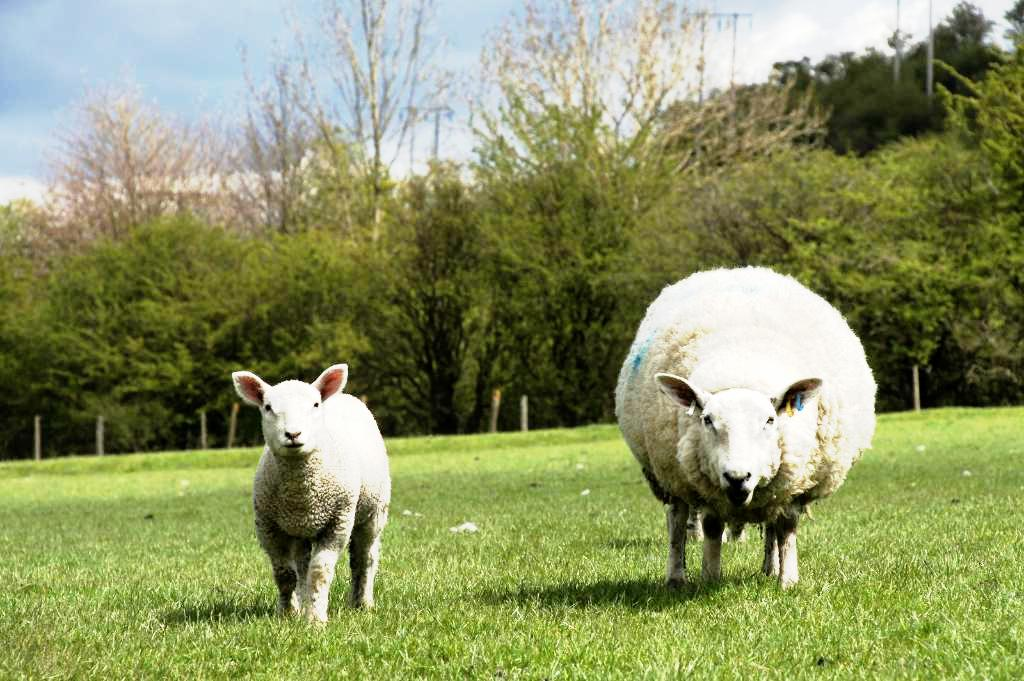Sheep: (615, 279, 867, 595), (228, 362, 394, 631)
